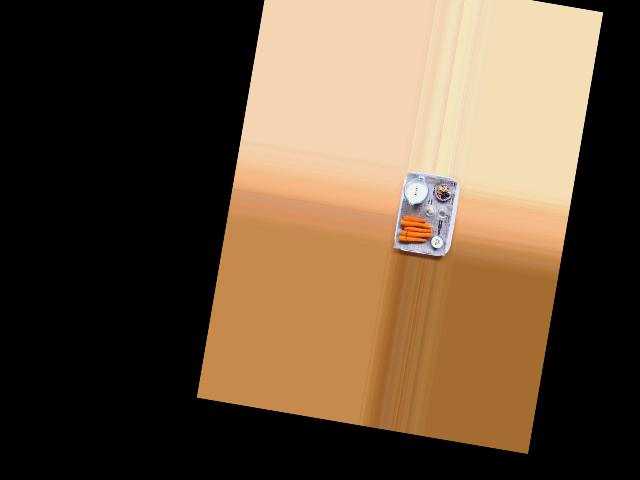carrot: (398, 232, 428, 245)
